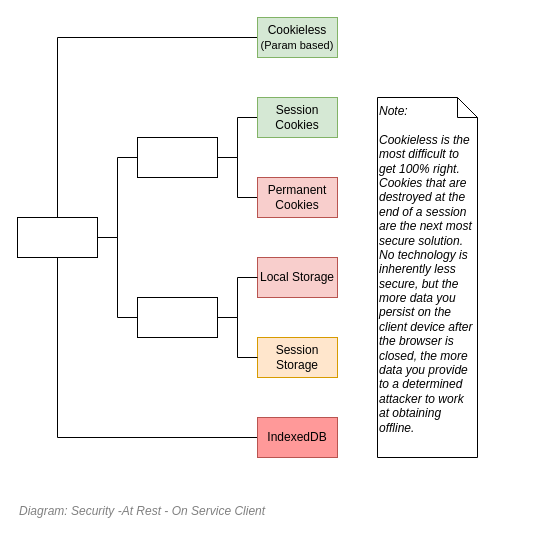
The diagram is 555 pixels wide and 539 high, and some of its shapes have lost their labels. The shapes that lost their labels are listed below. From the top down, each one's centre as x and y in pixels, then its label:
At point 177,157: "Cookies".
At point 57,237: "Service Agent".
At point 177,317: "Storage".
